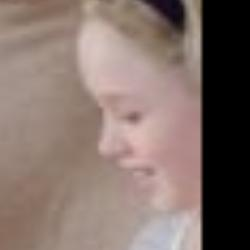face: (55, 1, 202, 232)
